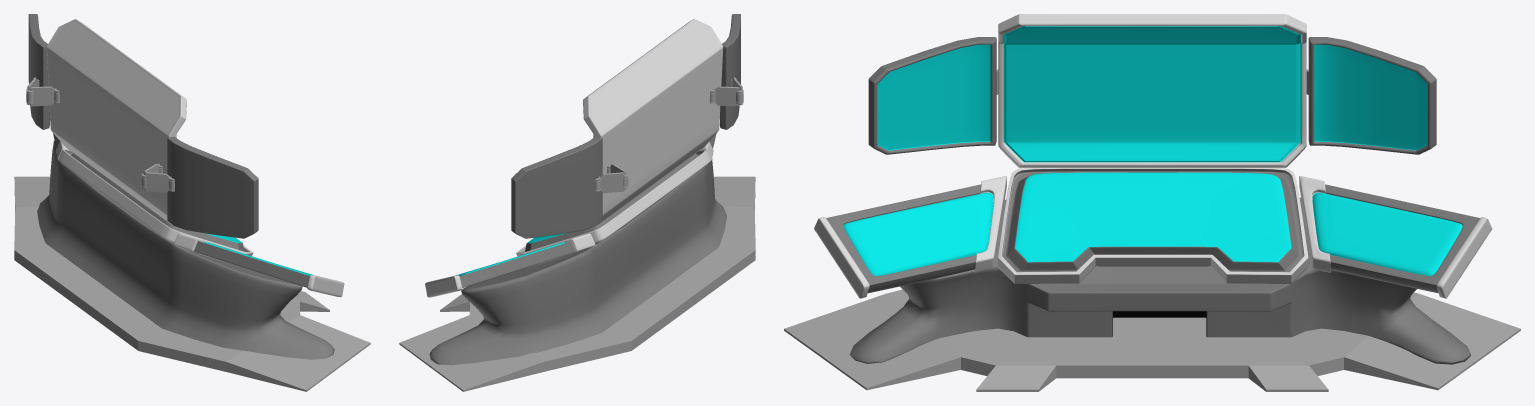
Rendered from Main_console.fbx.
3 renders of one model, left to right at view 1: azimuth 30°, elevation 25°; view 2: azimuth 150°, elevation 25°; view 3: azimuth 270°, elevation 25°, orthographic. The views are drawn at different scales.
Parts seen in each view (by area): view 1: polySurface22; view 2: polySurface22; view 3: polySurface22.
Part boxes in pixels (bbox=[...]): polySurface22: bbox=[14, 14, 370, 391]; polySurface22: bbox=[399, 14, 755, 391]; polySurface22: bbox=[784, 14, 1520, 391].
Size of the model in its own units: 3.36 by 4.12 by 9.26.
